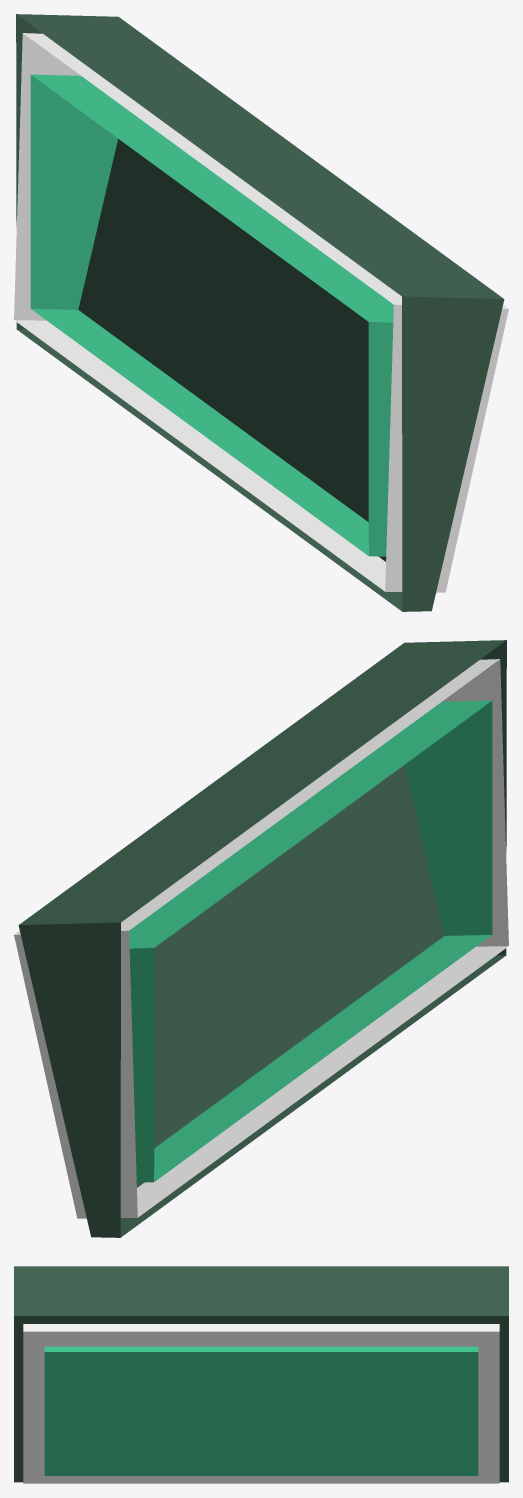
The model's file is Exit Sign.fbx.
3 renders of one model, top to bottom at view 1: azimuth 30°, elevation 25°; view 2: azimuth 150°, elevation 25°; view 3: azimuth 270°, elevation 25°, orthographic. The views are drawn at different scales.
Parts seen in each view (by area): view 1: pCube2; view 2: pCube2; view 3: pCube2.
Boxes of the visible parts, x1,y1,x2,y2 form: pCube2: (14,14,508,611); pCube2: (14,640,508,1237); pCube2: (14,1266,508,1483).
Size of the model in its own units: 44.39 by 106 by 230.
